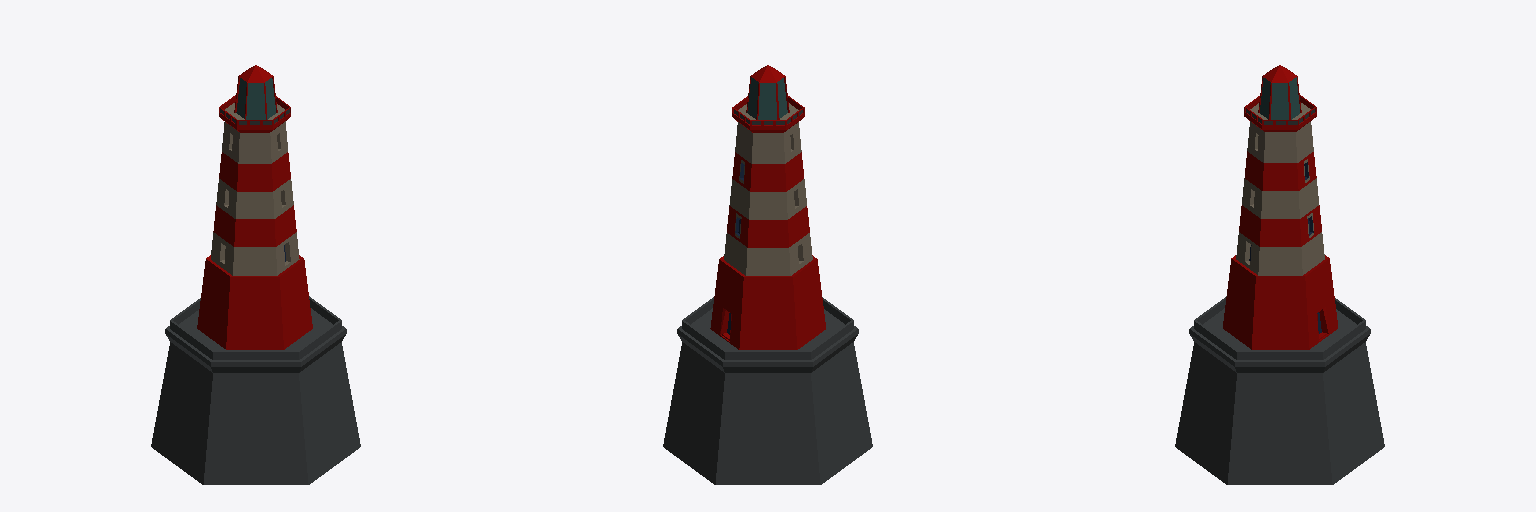
The model's file is lighthouse2.obj.
3 renders of one model, left to right at view 1: azimuth 30°, elevation 25°; view 2: azimuth 150°, elevation 25°; view 3: azimuth 270°, elevation 25°, orthographic.
Visible parts, largest first — view 1: Cylinder; view 2: Cylinder; view 3: Cylinder.
Part boxes in pixels (bbox=[...]): Cylinder: bbox=[151, 65, 360, 484]; Cylinder: bbox=[663, 65, 872, 484]; Cylinder: bbox=[1175, 65, 1384, 484].
Size of the model in its own units: 1.73 by 4.01 by 2.